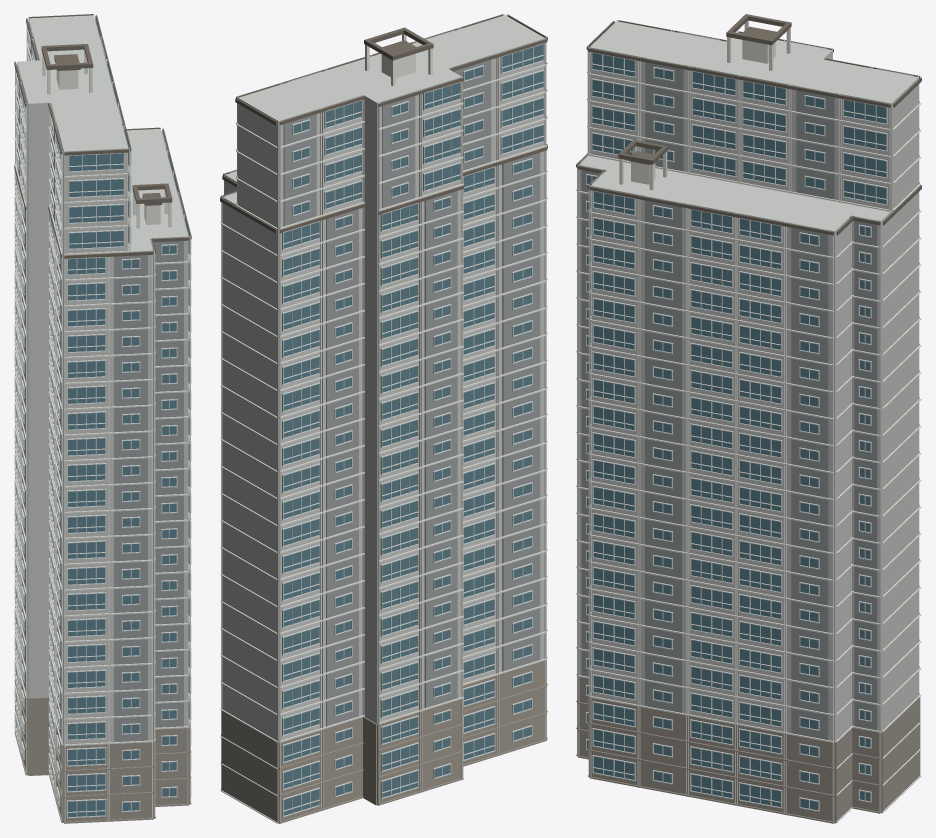
File: bespoke-banpo-xi-110.glb
The picture shows the model from 3 angles, left to right: view 1: azimuth 30°, elevation 25°; view 2: azimuth 150°, elevation 25°; view 3: azimuth 270°, elevation 25°; orthographic projection. The views are drawn at different scales.
Visible parts, largest first — view 1: BX110_editable_BX110_pale_silver_limestone, BX110_editable_BX110_grey_service_core, BX110_editable_BX110_blue_grey_broad_glazing, BX110_editable_BX110_white_window_frames, BX110_editable_BX110_ivory_course_bands, BX110_editable_BX110_warm_ground_stone, BX110_editable_BX110_dark_coping; view 2: BX110_editable_BX110_pale_silver_limestone, BX110_editable_BX110_blue_grey_broad_glazing, BX110_editable_BX110_grey_service_core, BX110_editable_BX110_ivory_course_bands, BX110_editable_BX110_white_window_frames, BX110_editable_BX110_warm_ground_stone, BX110_editable_BX110_dark_coping; view 3: BX110_editable_BX110_pale_silver_limestone, BX110_editable_BX110_blue_grey_broad_glazing, BX110_editable_BX110_grey_service_core, BX110_editable_BX110_ivory_course_bands, BX110_editable_BX110_white_window_frames, BX110_editable_BX110_warm_ground_stone, BX110_editable_BX110_dark_coping.
Boxes of the visible parts, <box> form: BX110_editable_BX110_pale_silver_limestone: <box>17,15,188,774</box>; BX110_editable_BX110_grey_service_core: <box>16,21,183,742</box>; BX110_editable_BX110_blue_grey_broad_glazing: <box>16,20,189,817</box>; BX110_editable_BX110_white_window_frames: <box>14,19,191,818</box>; BX110_editable_BX110_ivory_course_bands: <box>14,15,191,823</box>; BX110_editable_BX110_warm_ground_stone: <box>14,670,191,823</box>; BX110_editable_BX110_dark_coping: <box>14,14,191,258</box>; BX110_editable_BX110_pale_silver_limestone: <box>222,15,545,822</box>; BX110_editable_BX110_blue_grey_broad_glazing: <box>282,44,542,815</box>; BX110_editable_BX110_grey_service_core: <box>225,30,540,726</box>; BX110_editable_BX110_ivory_course_bands: <box>220,14,547,823</box>; BX110_editable_BX110_white_window_frames: <box>282,43,544,817</box>; BX110_editable_BX110_warm_ground_stone: <box>221,660,547,823</box>; BX110_editable_BX110_dark_coping: <box>220,14,547,233</box>; BX110_editable_BX110_pale_silver_limestone: <box>579,21,918,822</box>; BX110_editable_BX110_blue_grey_broad_glazing: <box>587,53,886,810</box>; BX110_editable_BX110_grey_service_core: <box>580,32,913,740</box>; BX110_editable_BX110_ivory_course_bands: <box>576,20,921,822</box>; BX110_editable_BX110_white_window_frames: <box>585,52,887,811</box>; BX110_editable_BX110_warm_ground_stone: <box>576,677,920,823</box>; BX110_editable_BX110_dark_coping: <box>576,14,921,235</box>.
Bounding box in the file's own units: 22.48 × 72.9 × 31.32.
